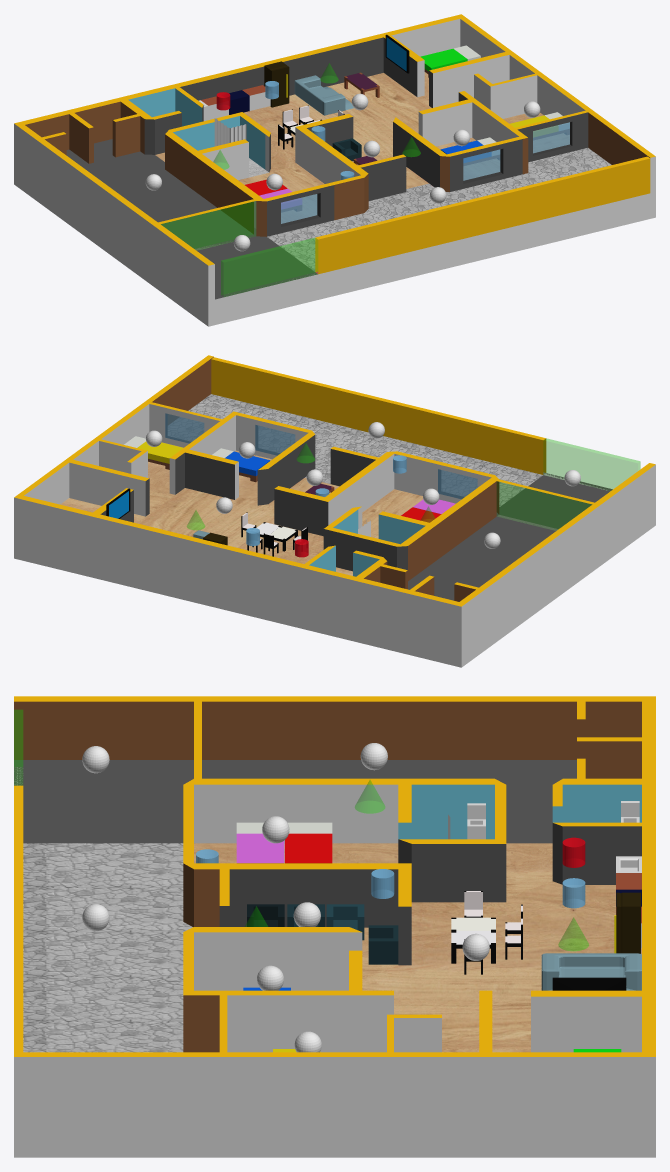
3 views of the same model, one above another, from view 1: azimuth 30°, elevation 25°; view 2: azimuth 150°, elevation 25°; view 3: azimuth 270°, elevation 25° (orthographic). The views are drawn at different scales.
Parts seen in each view (by area): view 1: Cube, Cube.004, Cube.003, Cube.005, Cube.026, Cube.007, Cube.017, Cube.006, Cube.010, Cube.012, Plane, Cube.002 (+1 smaller); view 2: Cube, Cube.005, Cube.007, Cube.006, Cube.010, Cube.012, Cube.002; view 3: Cube, Cube.004, Cube.008, Cube.001, Cube.017, Cube.013, Cube.002, Cube.003, Cube.009, Cube.015, Cube.024, Dht_Dapur (+2 smaller).
Part boxes in pixels (bbox=[...]): Cube: bbox=[14, 14, 655, 326]; Cube.004: bbox=[294, 75, 353, 115]; Cube.003: bbox=[198, 85, 270, 121]; Cube.005: bbox=[463, 149, 500, 180]; Cube.026: bbox=[420, 45, 480, 77]; Cube.007: bbox=[533, 122, 569, 153]; Cube.017: bbox=[264, 61, 289, 107]; Cube.006: bbox=[281, 194, 317, 223]; Cube.010: bbox=[510, 112, 569, 139]; Cube.012: bbox=[440, 137, 499, 165]; Plane: bbox=[214, 118, 246, 146]; Cube.002: bbox=[385, 34, 409, 73]; Cube: bbox=[14, 355, 655, 667]; Cube.005: bbox=[255, 425, 295, 455]; Cube.007: bbox=[165, 413, 204, 443]; Cube.006: bbox=[438, 469, 477, 499]; Cube.010: bbox=[124, 436, 183, 469]; Cube.012: bbox=[212, 448, 270, 482]; Cube.002: bbox=[106, 488, 130, 518]; Cube: bbox=[14, 696, 655, 1157]; Cube.004: bbox=[541, 953, 641, 990]; Cube.008: bbox=[285, 822, 332, 863]; Cube.001: bbox=[236, 822, 284, 863]; Cube.017: bbox=[614, 892, 640, 953]; Cube.013: bbox=[368, 925, 398, 964]; Cube.002: bbox=[552, 977, 626, 990]; Cube.003: bbox=[616, 856, 641, 948]; Cube.009: bbox=[326, 904, 364, 940]; Cube.015: bbox=[247, 904, 284, 926]; Cube.024: bbox=[467, 803, 485, 839]; Dht_Dapur: bbox=[562, 878, 585, 908].
Bounding box in the file's own units: 3.77 × 0.5566 × 2.84.
62 materials, 3 textured.
